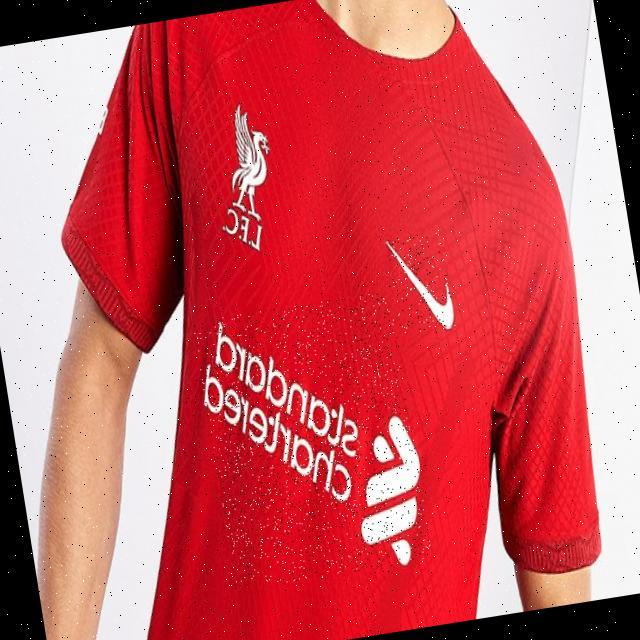Nike: (386, 232, 456, 335)
Standard Chartered: (193, 291, 433, 591)
